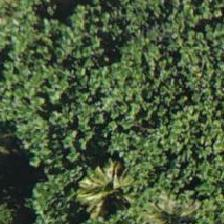coconut_tree: (66, 147, 156, 223), (122, 172, 212, 223)
